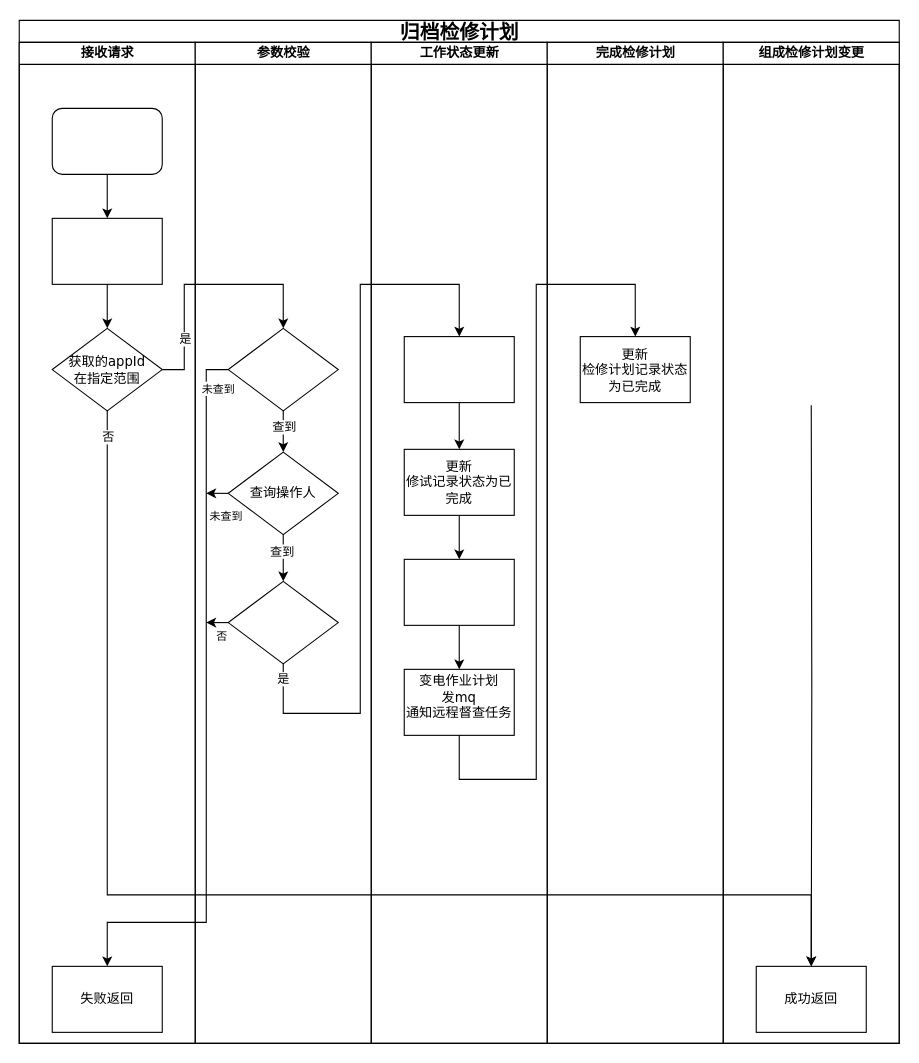
Some shapes in this 919 by 1063 pixel diagram are drawn without their labels. Here are the shapes that lost their labels. From the top down, the centre of each, then its label:
At point (106, 140): "开始".
At point (106, 250): "获取appId".
At point (282, 369): "查询检修计划".
At point (458, 369): "更新 工作任务状态为已完成".
At point (458, 591): "更新 工作记录状态为已完成".
At point (282, 622): "判断获取的appId 和检修计划记录的 是否一致".
